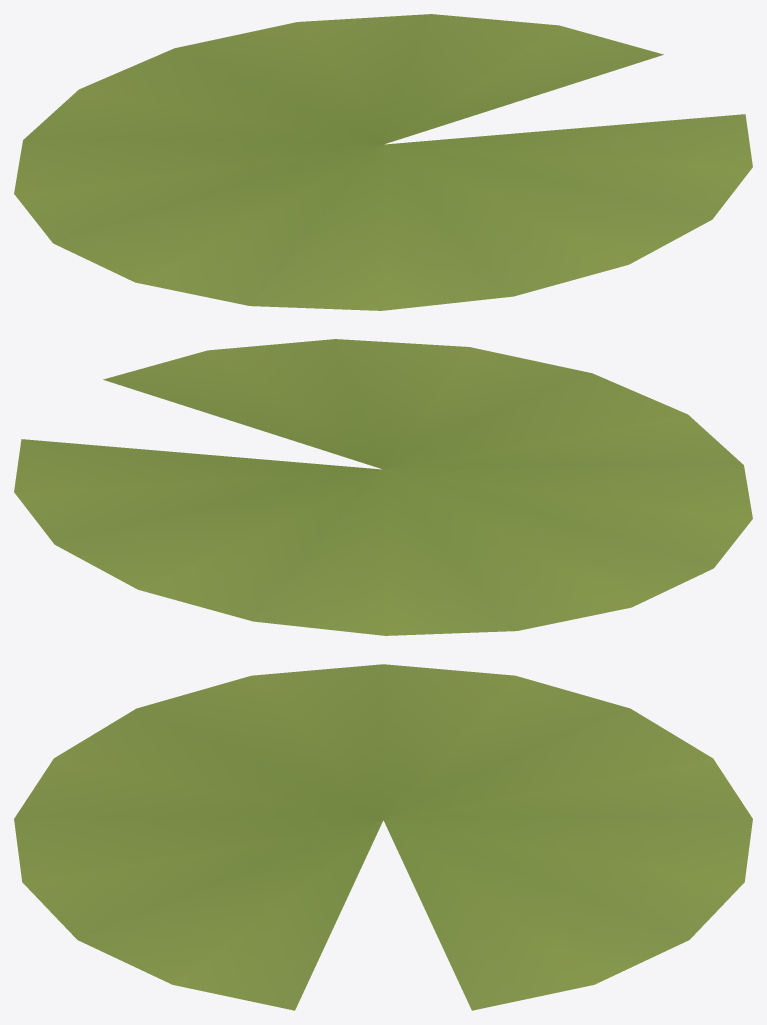
Rendered from lilypad.glb.
3 renders of one model, top to bottom at view 1: azimuth 30°, elevation 25°; view 2: azimuth 150°, elevation 25°; view 3: azimuth 270°, elevation 25°, orthographic. The views are drawn at different scales.
Parts seen in each view (by area): view 1: Notched lily pad with raised center; view 2: Notched lily pad with raised center; view 3: Notched lily pad with raised center.
Part boxes in pixels (x1,y1,x2,y2): Notched lily pad with raised center: (14,14,752,310); Notched lily pad with raised center: (14,339,752,635); Notched lily pad with raised center: (14,664,752,1010).
Size of the model in its own units: 0.7491 by 0.02 by 0.6751.
